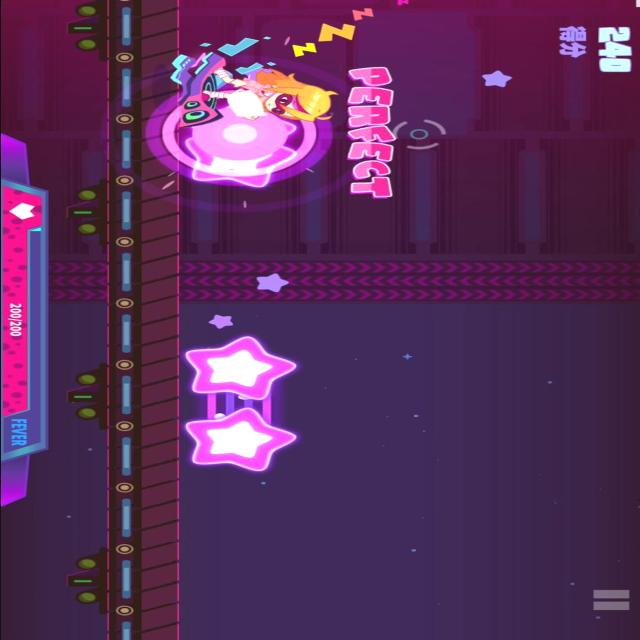hold: (190, 334, 298, 472)
